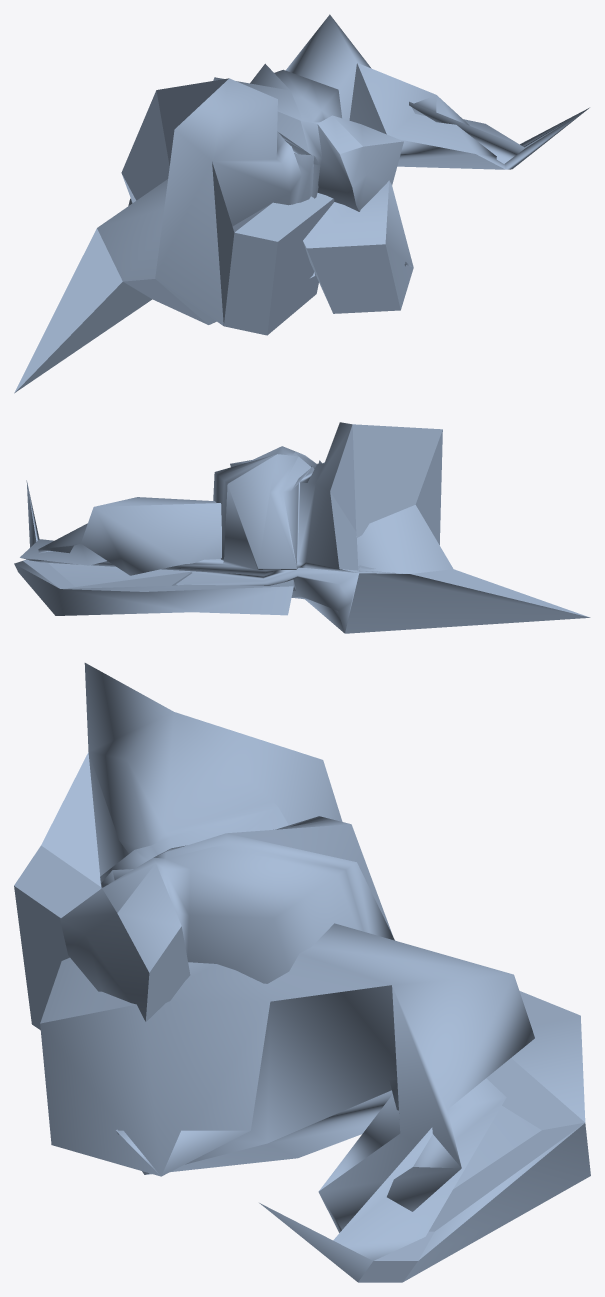
File: CLOUD4.fbx
3 renders of one model, top to bottom at view 1: azimuth 30°, elevation 25°; view 2: azimuth 150°, elevation 25°; view 3: azimuth 270°, elevation 25°, orthographic. The views are drawn at different scales.
Parts seen in each view (by area): view 1: pSphere10; view 2: pSphere10; view 3: pSphere10.
Boxes of the visible parts, x1=… form: pSphere10: x1=14, y1=14, x2=589, y2=393; pSphere10: x1=14, y1=422, x2=590, y2=633; pSphere10: x1=14, y1=663, x2=590, y2=1282.
Bounding box in the file's own units: 19.8 × 6.95 × 10.39.
